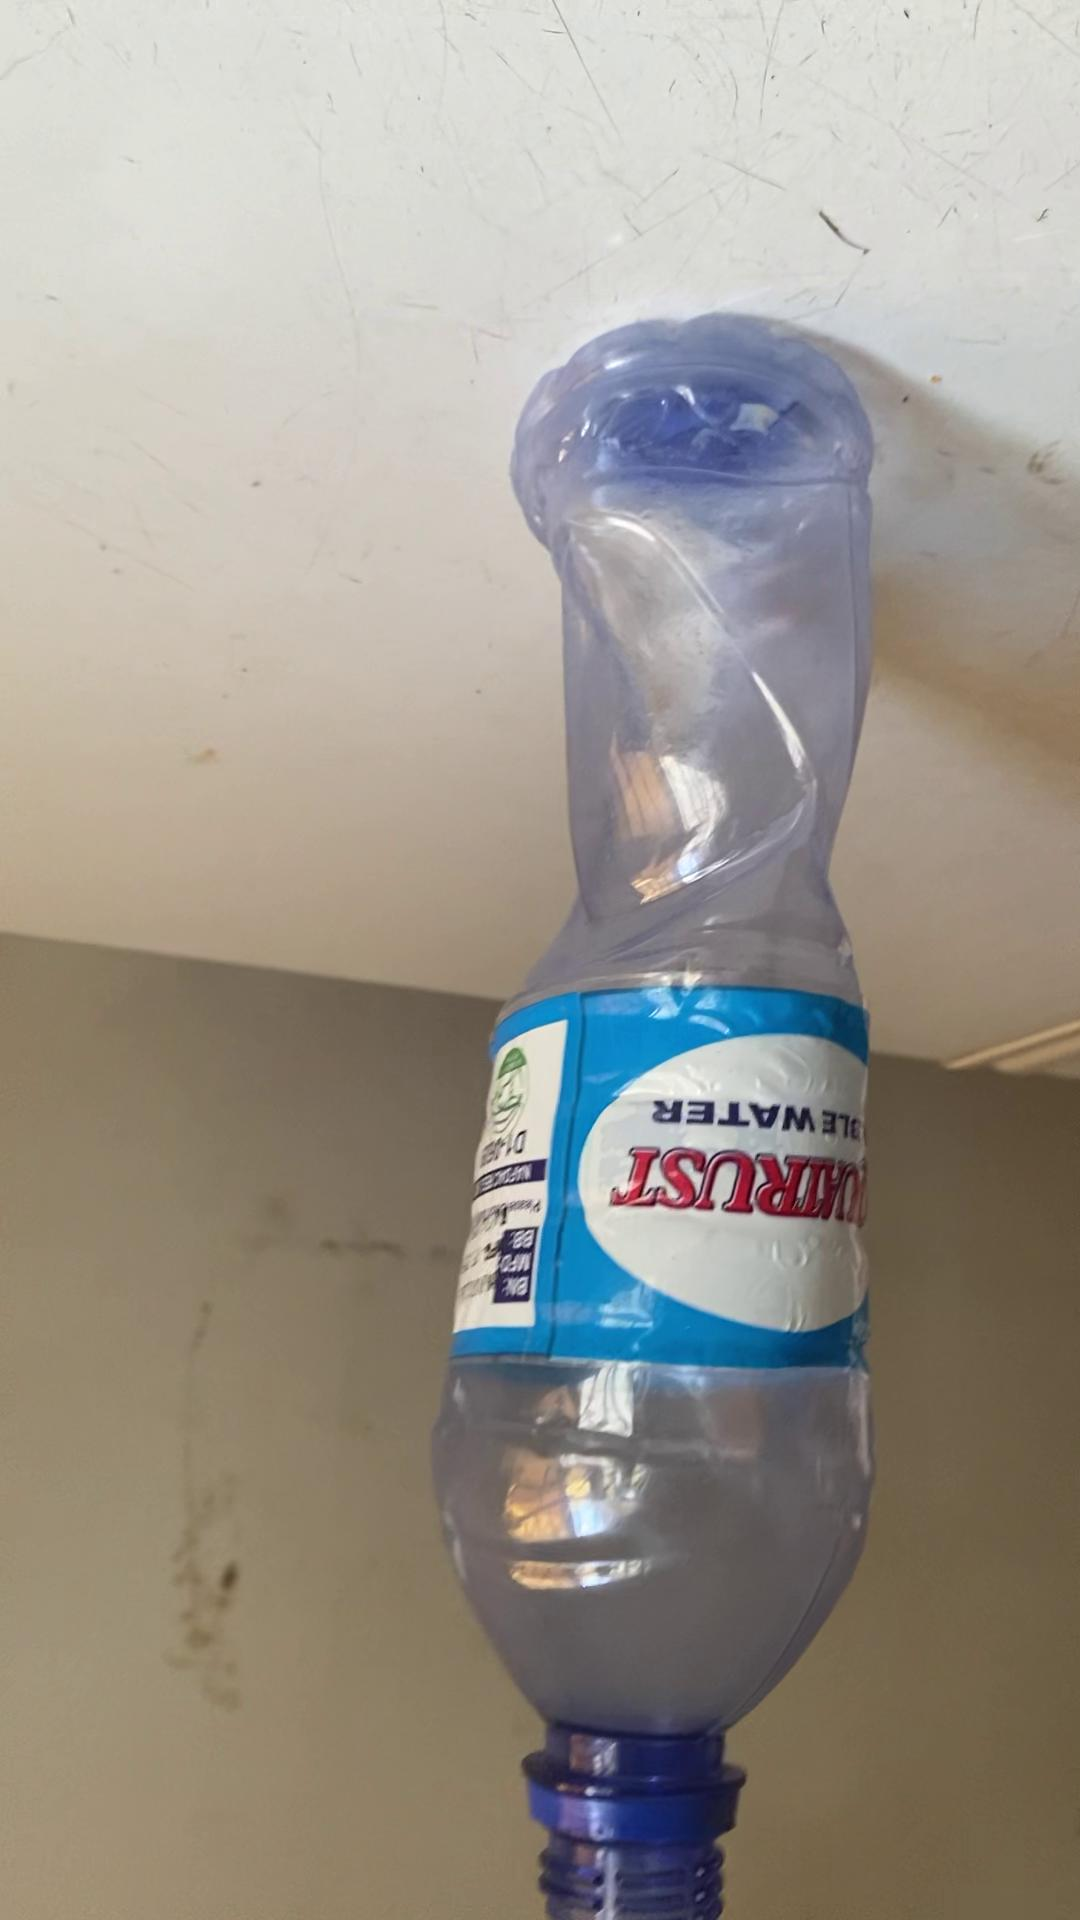crumbled: (431, 316, 893, 1920)
label: (462, 992, 873, 1370)
no-cap: (530, 1787, 749, 1920)
